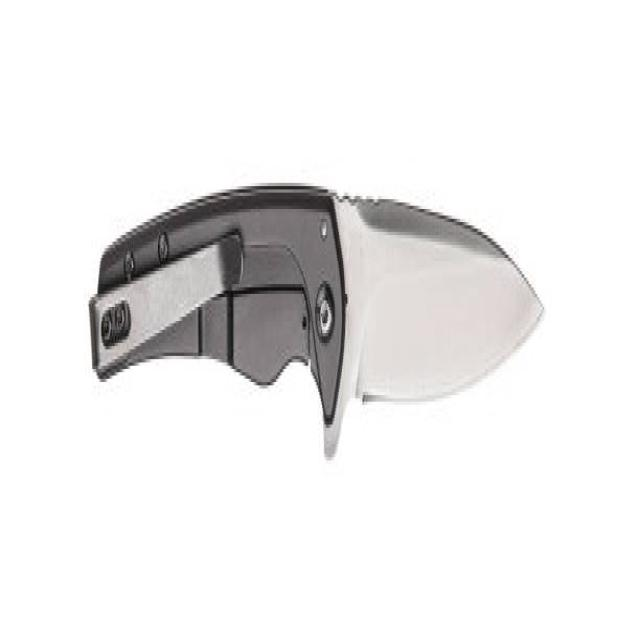knife: (85, 173, 548, 471)
